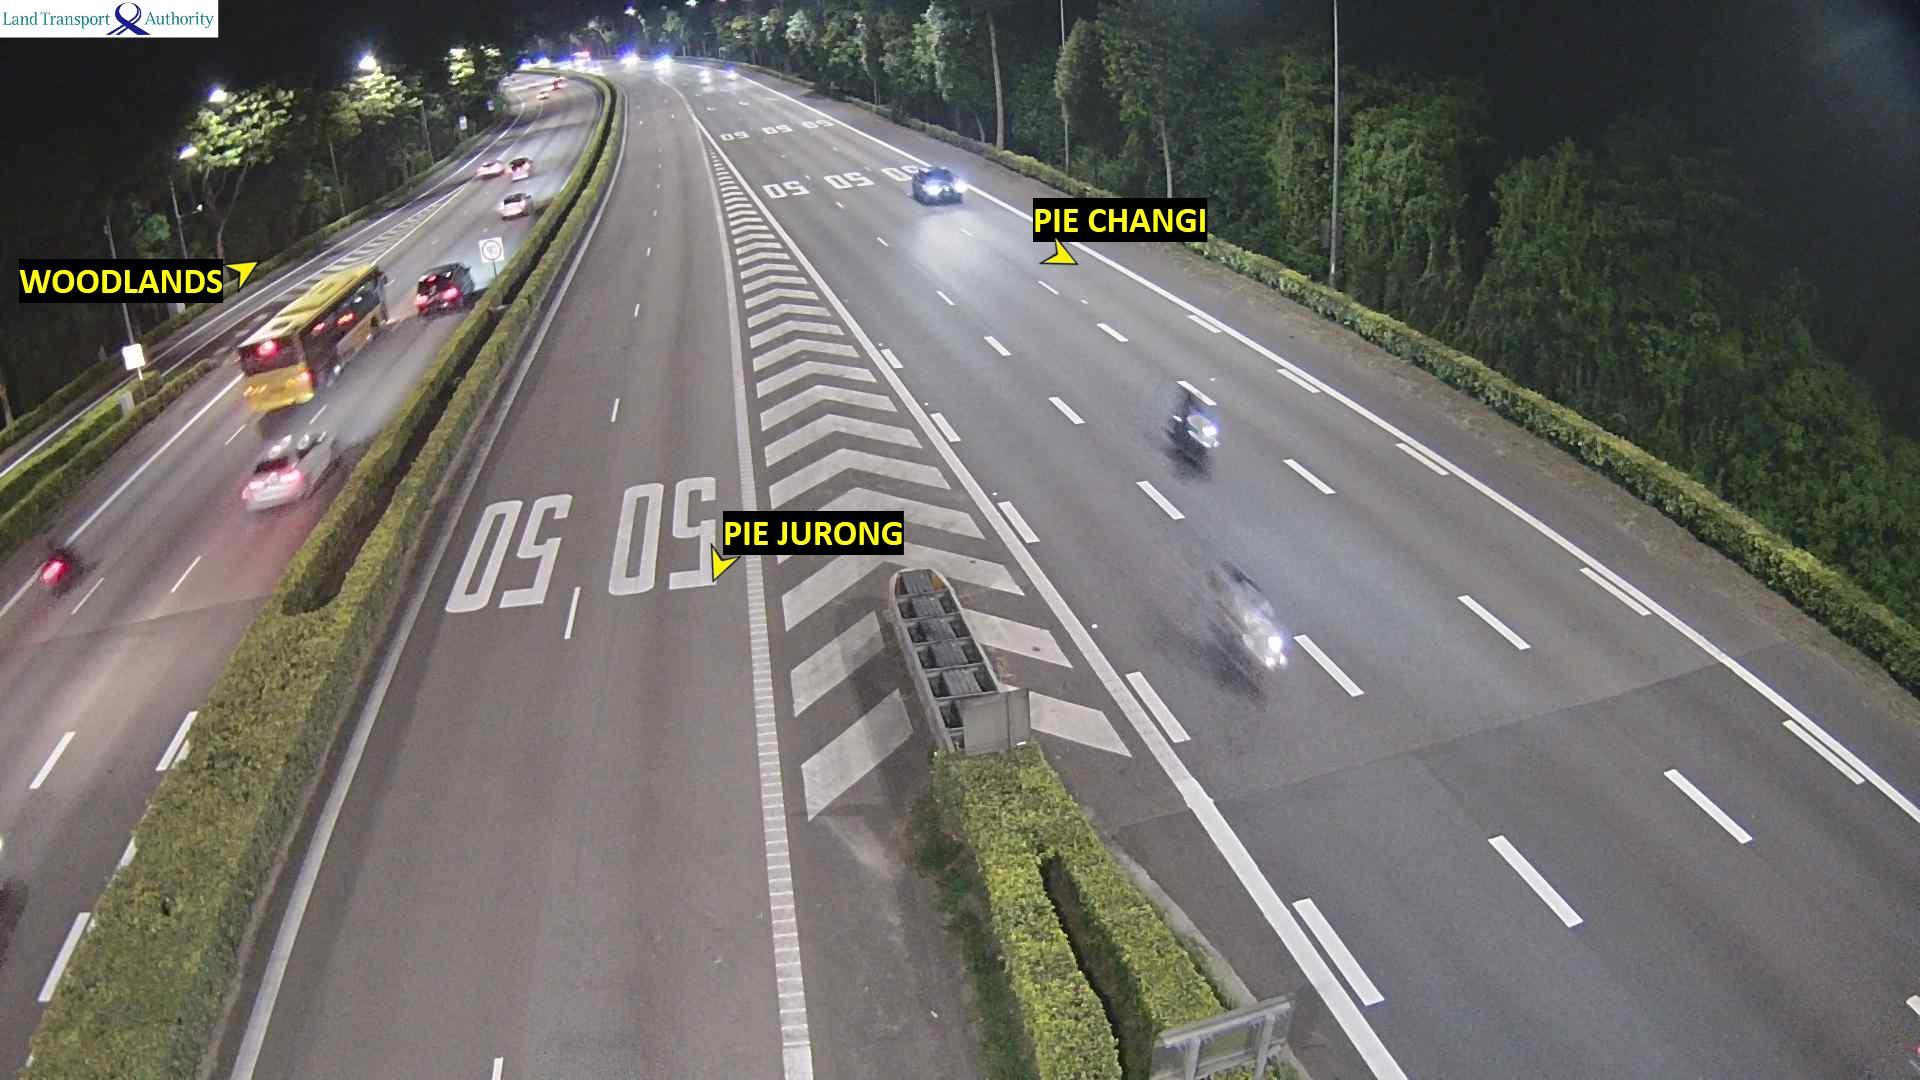bus: (235, 261, 392, 414)
cars: (239, 429, 335, 512), (413, 261, 473, 316), (911, 165, 967, 204), (497, 190, 531, 219), (475, 158, 504, 179), (516, 50, 549, 69), (508, 156, 531, 179), (617, 49, 640, 70), (570, 50, 589, 69), (723, 63, 736, 79), (553, 75, 566, 90), (537, 88, 551, 100)
motorcycle: (1203, 558, 1291, 676), (1162, 378, 1221, 464), (37, 545, 76, 591)
